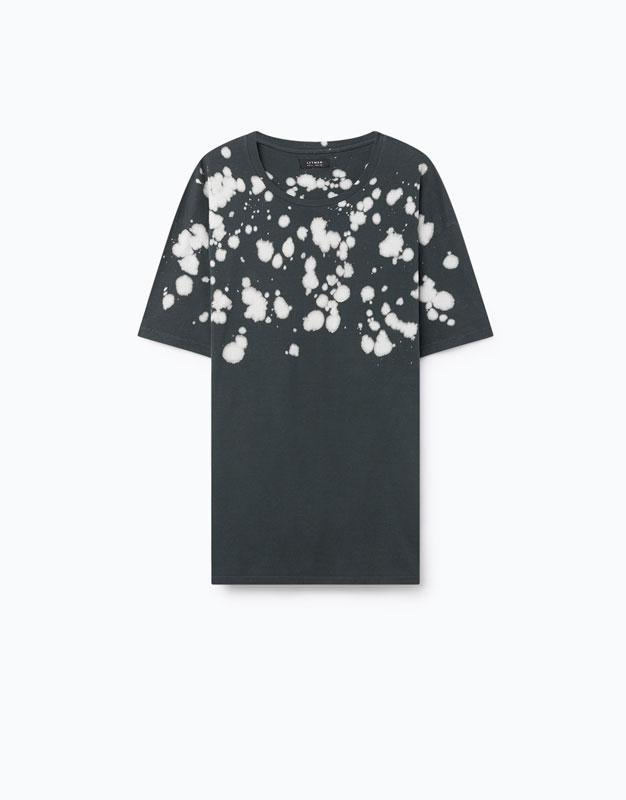teeshirt: (135, 118, 512, 611)
